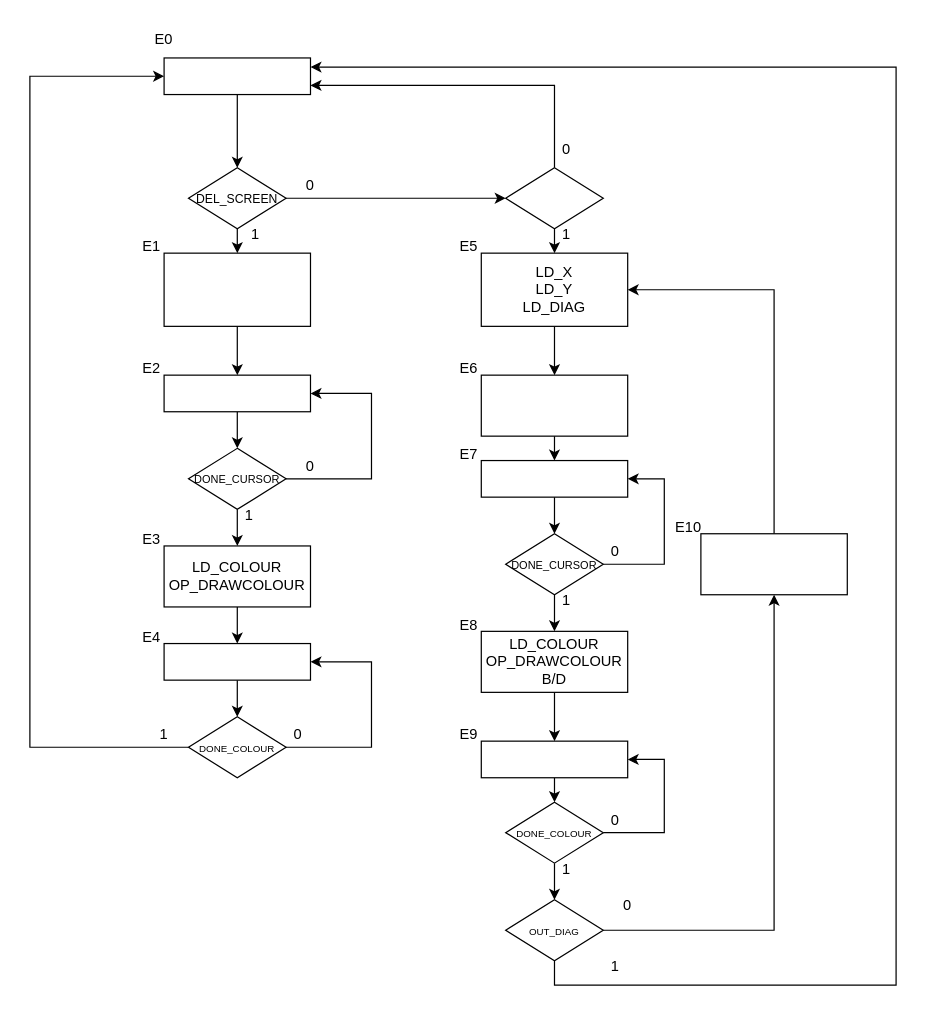
Some shapes in this 927 by 1016 pixel diagram are drawn without their labels. Each missing label, with the centre of its shape:
DRAWFIG: point (553, 198)
INC_DIAG OP_SET_CURSOR: point (554, 405)
LD_X LD_Y: point (773, 564)
LD_X LD_Y OP_SET_CURSOR: point (236, 289)
